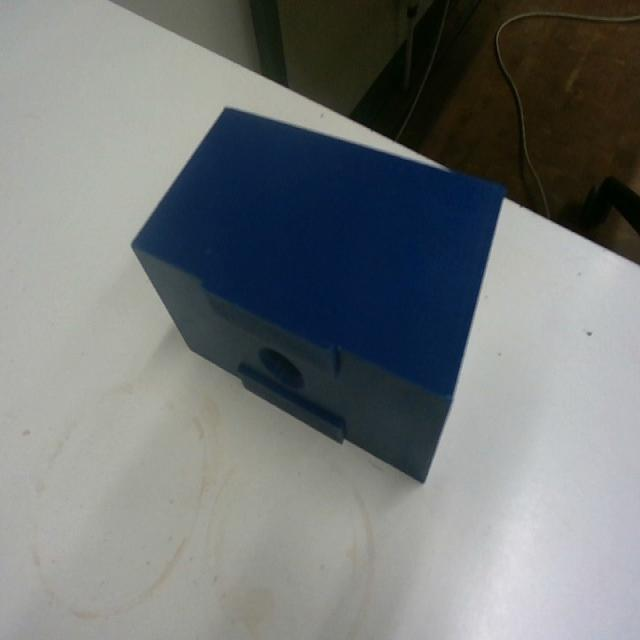Blue Cuboid: (129, 101, 507, 484)
